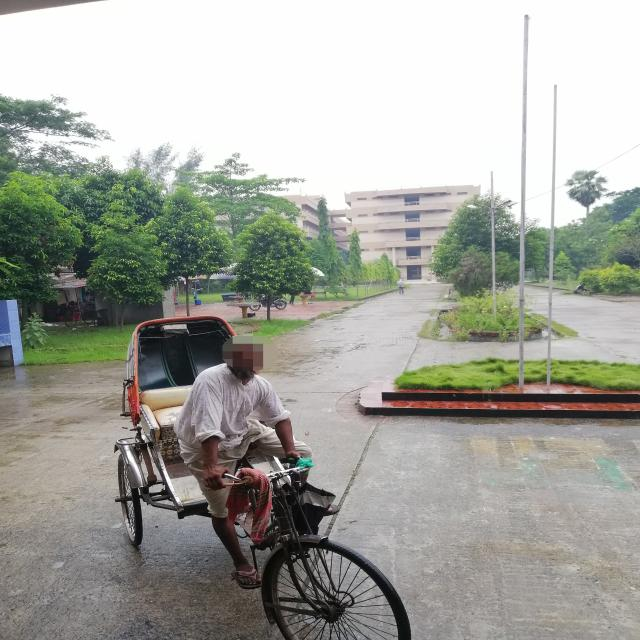Rickshaw: (127, 298, 412, 640)
